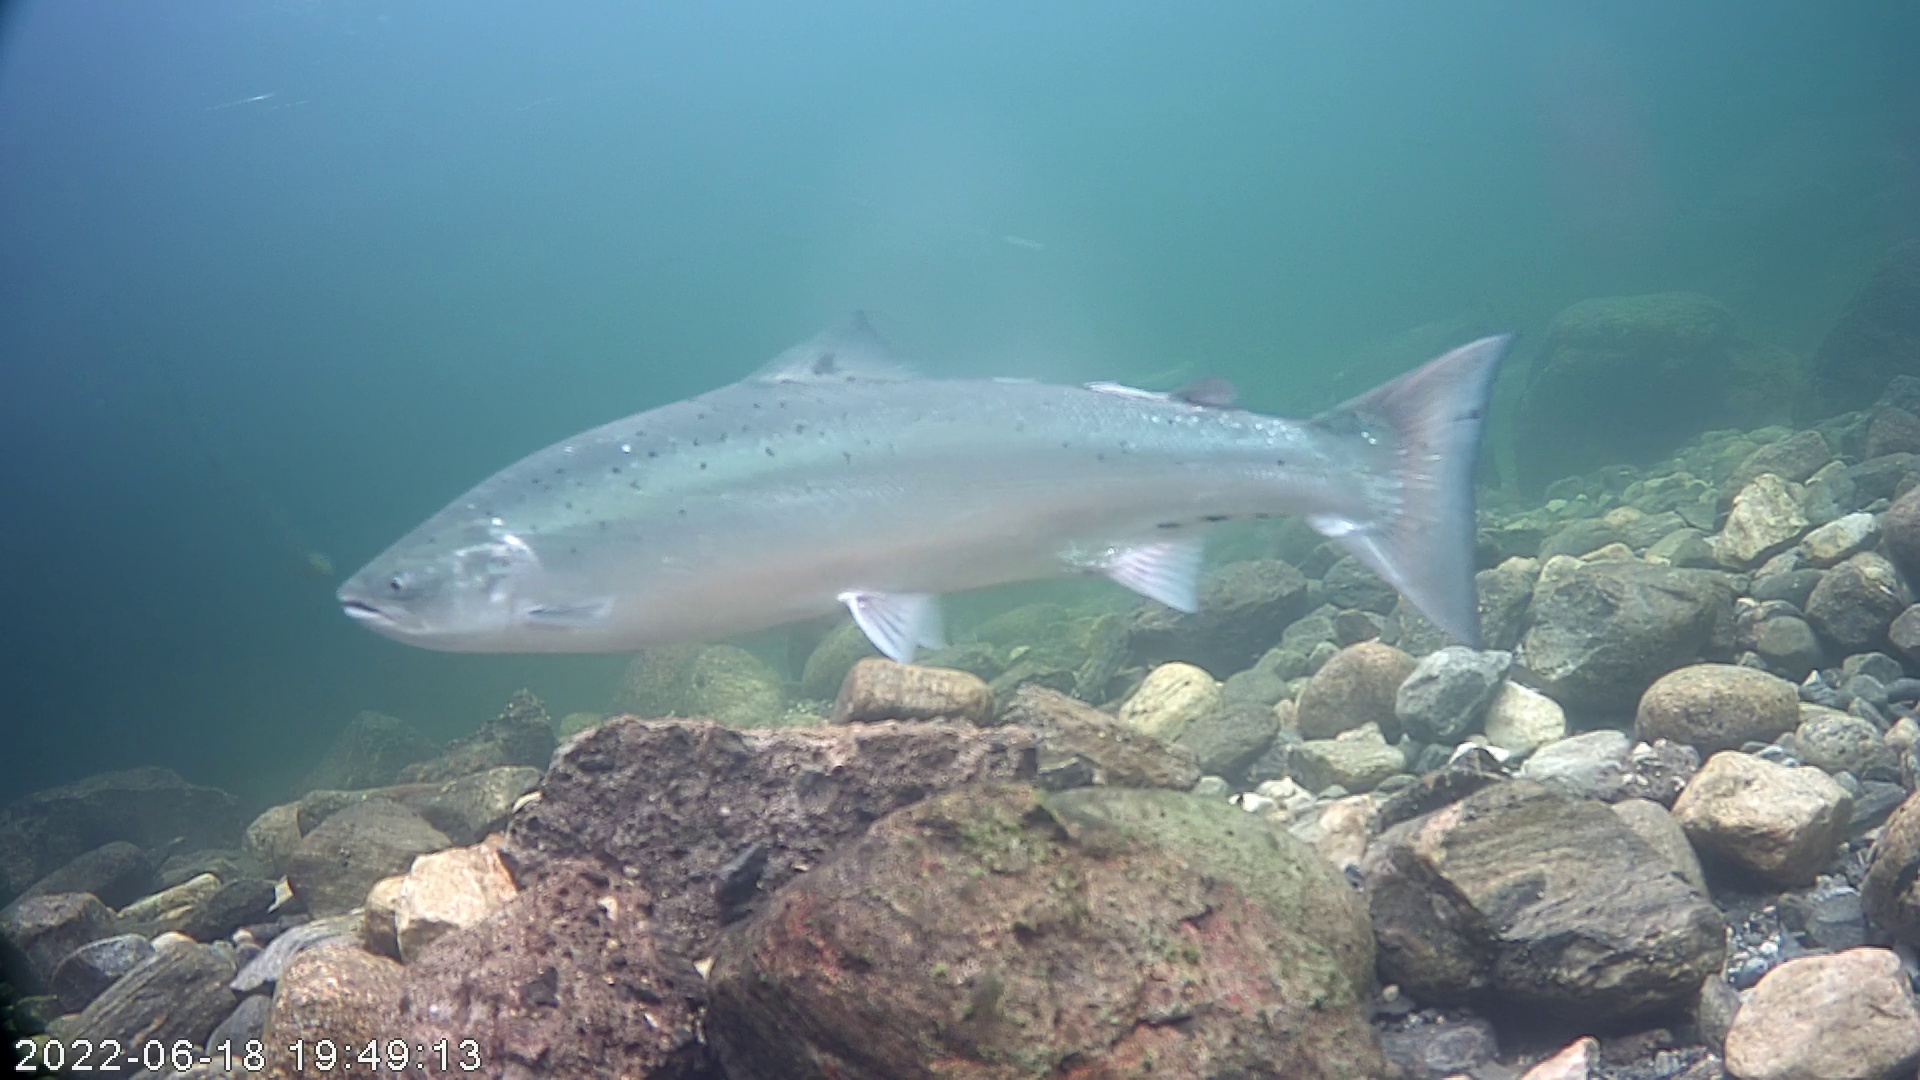salmon: (334, 305, 1519, 669)
